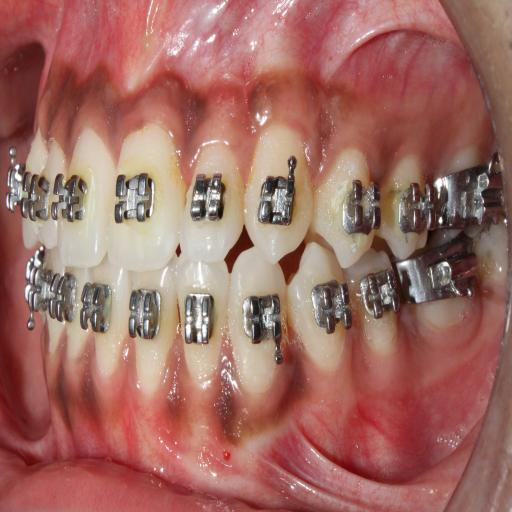correct_brace: (287, 244, 353, 373), (312, 146, 376, 270), (254, 162, 299, 232), (238, 290, 283, 347), (111, 170, 155, 228), (306, 279, 354, 332), (50, 165, 88, 230), (179, 291, 219, 351), (191, 171, 228, 223)
incorrect_brace: (180, 132, 248, 274), (169, 254, 232, 376), (340, 171, 382, 241)
